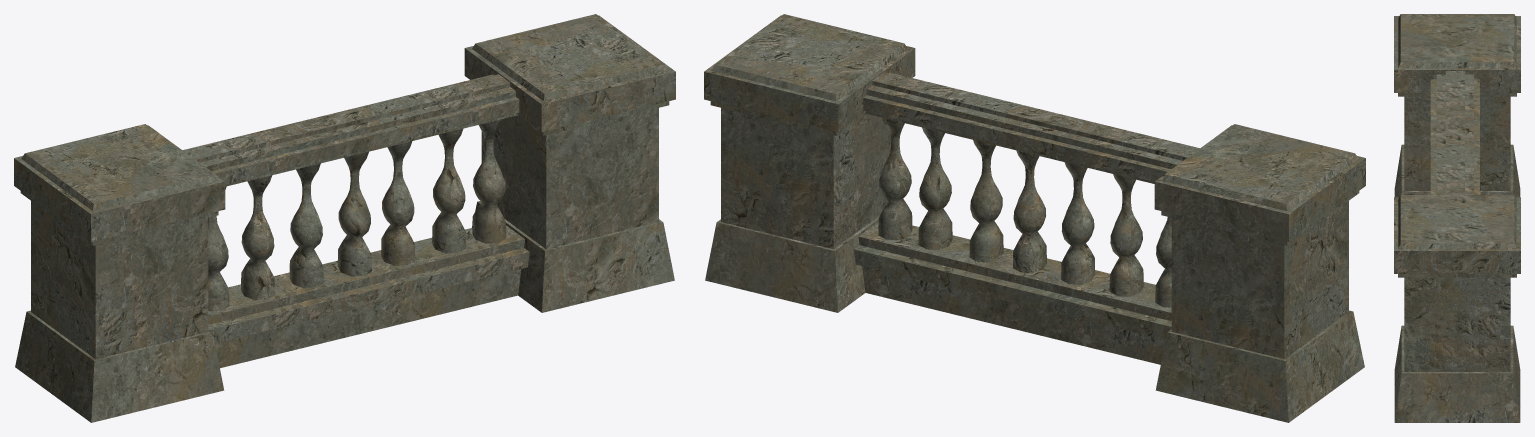
File: FBXfence.fbx
3 renders of one model, left to right at view 1: azimuth 30°, elevation 25°; view 2: azimuth 150°, elevation 25°; view 3: azimuth 270°, elevation 25°, orthographic. The views are drawn at different scales.
Parts seen in each view (by area): view 1: fence2; view 2: fence2; view 3: fence2.
Part boxes in pixels (box(x1,y1,x2,y2)): fence2: box(14, 14, 675, 422); fence2: box(704, 14, 1365, 422); fence2: box(1394, 14, 1520, 422).
Bounding box in the file's own units: 4.54 × 1.59 × 1.03.
1 material, 1 textured.
